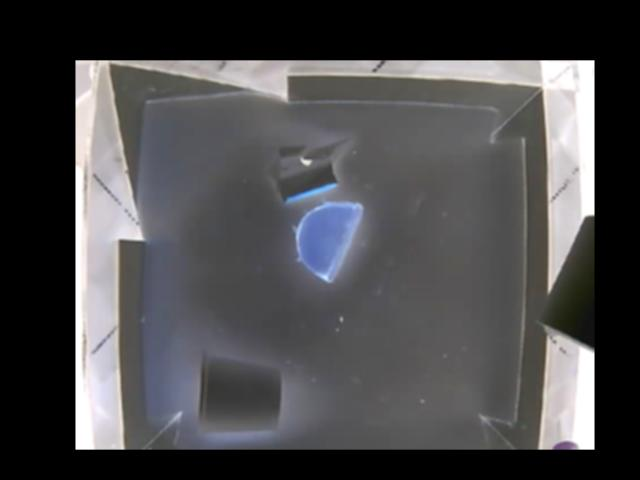China: (264, 138, 350, 204)
Cup: (194, 352, 281, 433)
Potato: (296, 201, 365, 281)
